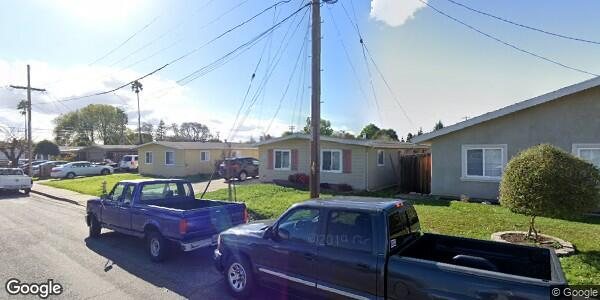Wood_Pole: (8, 62, 48, 168), (304, 1, 325, 196)
